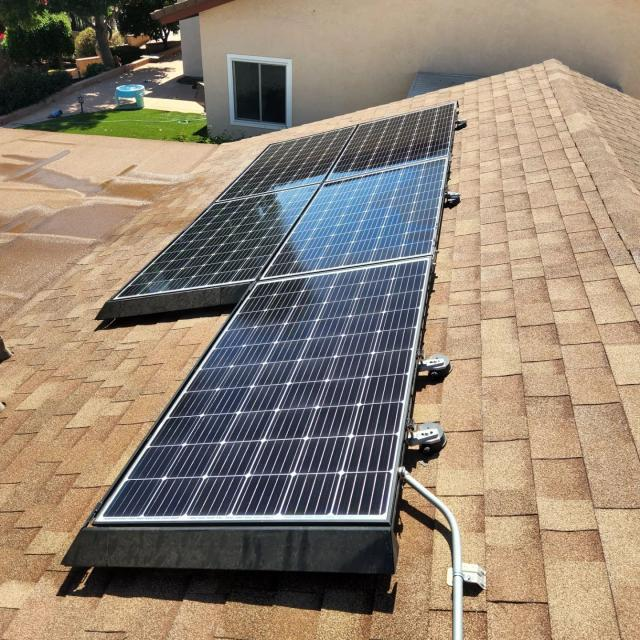clean-solar-panel: (94, 102, 456, 524)
